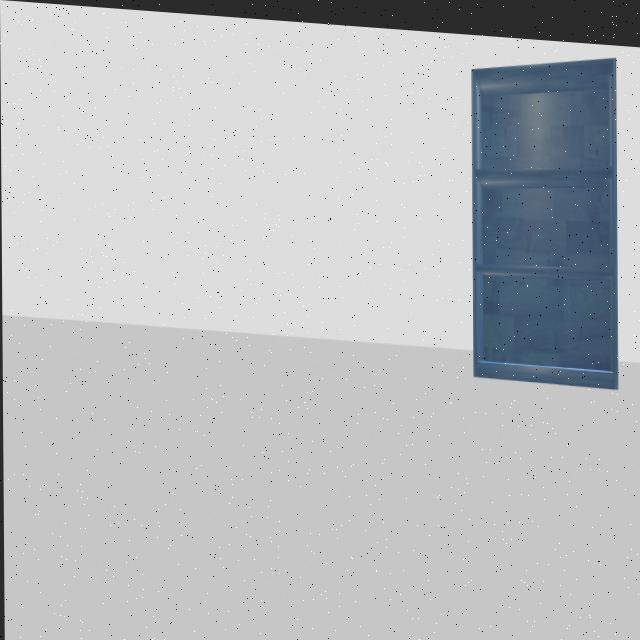shelf: (459, 32, 632, 402)
